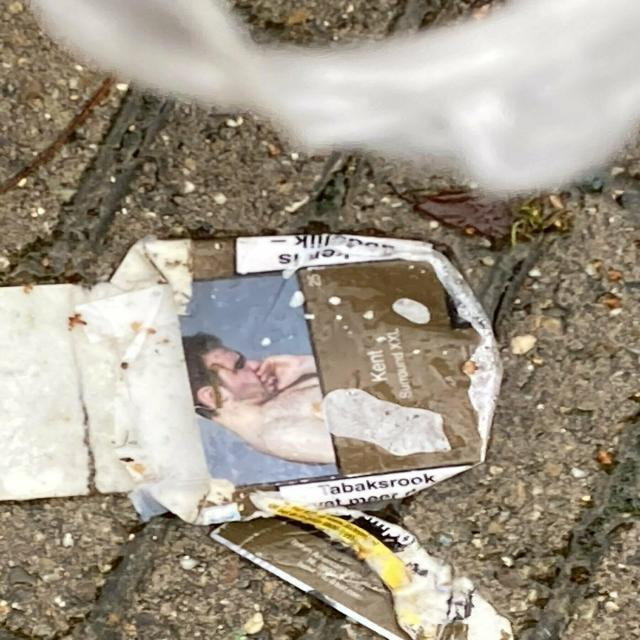Paper: (1, 228, 516, 640)
